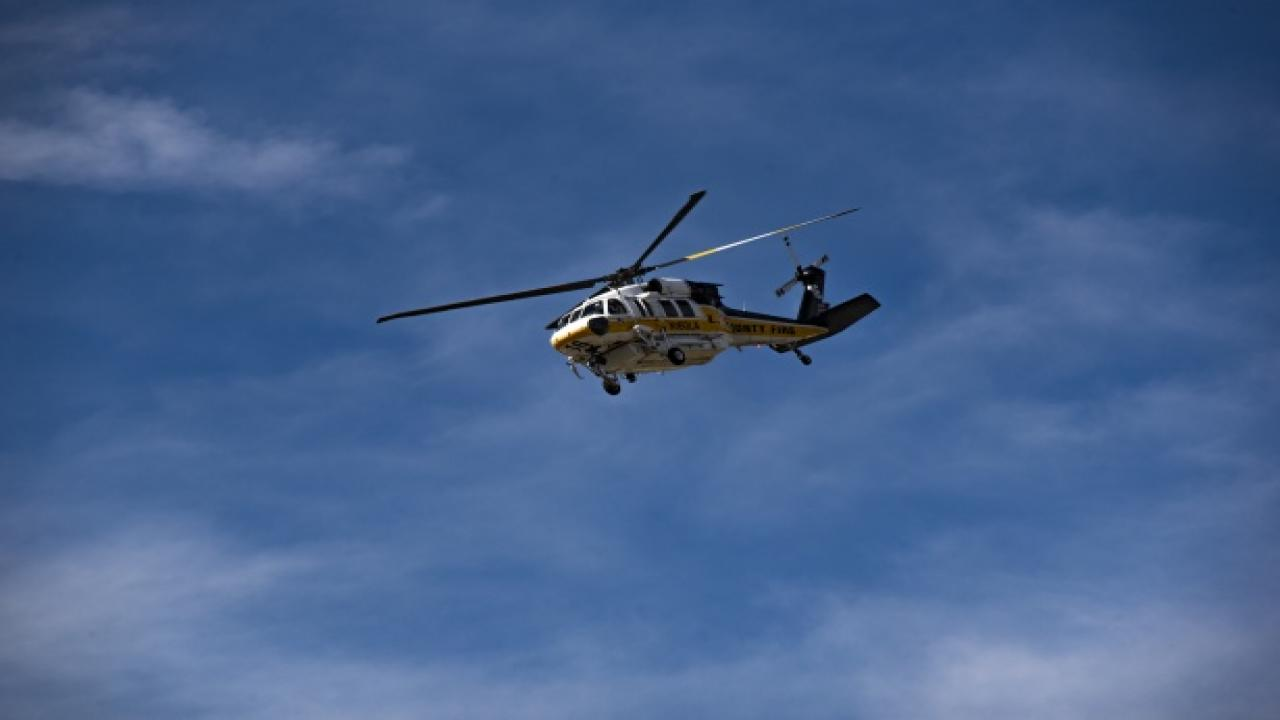Helicopter: (358, 179, 908, 405)
